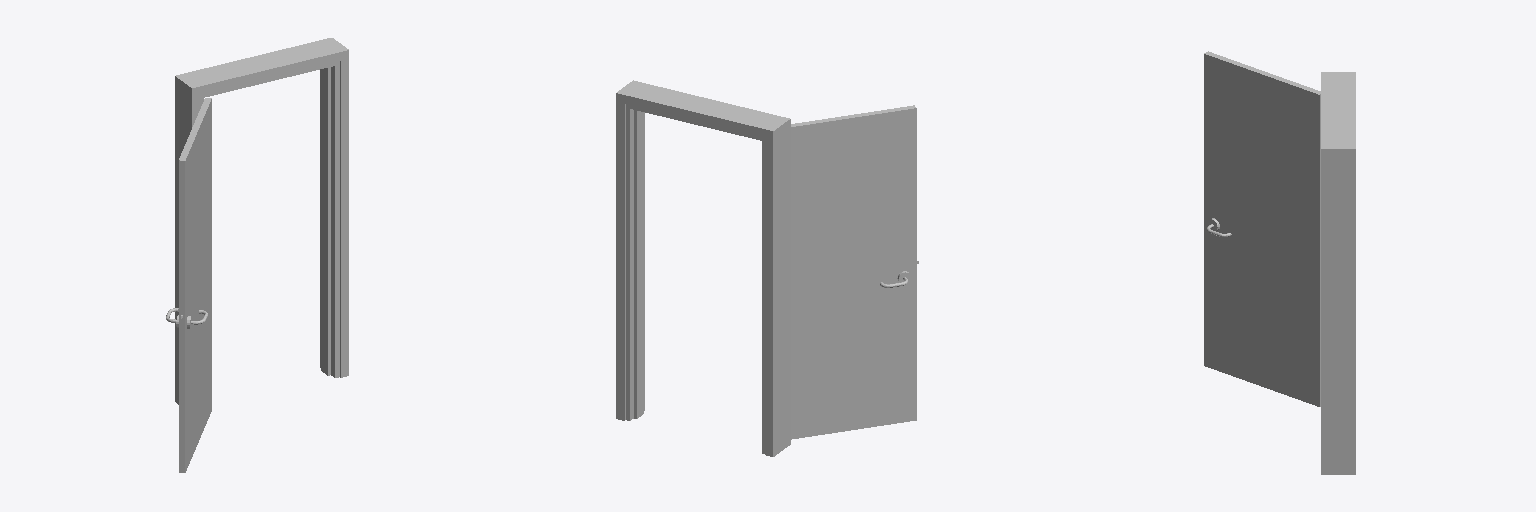
File: metaldoor.obj
3 views of the same model, side by side, from view 1: azimuth 30°, elevation 25°; view 2: azimuth 150°, elevation 25°; view 3: azimuth 270°, elevation 25° (orthographic).
Parts seen in each view (by area): view 1: Frame_low_Cube.004, Door_low_Cube.005; view 2: Door_low_Cube.005, Frame_low_Cube.004; view 3: Door_low_Cube.005, Frame_low_Cube.004.
Part boxes in pixels (x1,y1,x2,y2): Frame_low_Cube.004: (175,38,348,404); Door_low_Cube.005: (179,98,211,472); Door_low_Cube.005: (791,105,918,439); Frame_low_Cube.004: (616,80,790,456); Door_low_Cube.005: (1204,51,1320,406); Frame_low_Cube.004: (1321,72,1355,474).
Size of the model in its own units: 1.76 by 2.41 by 1.02.